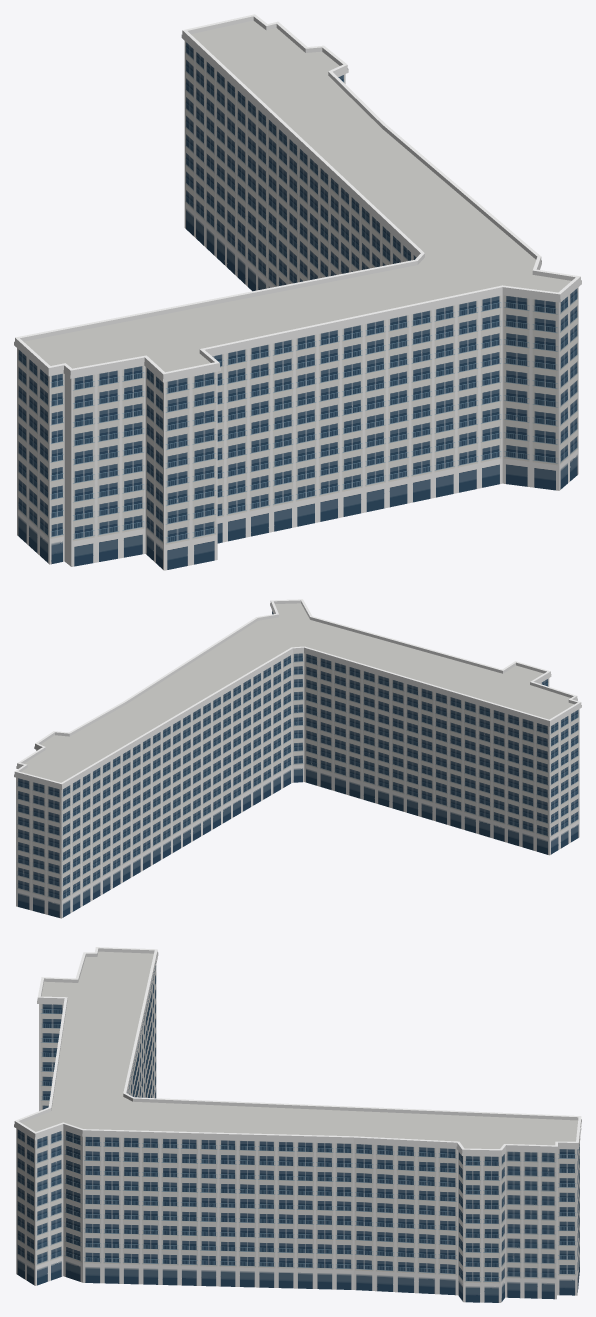
Rendered from spyglass.glb.
The picture shows the model from 3 angles, top to bottom: view 1: azimuth 30°, elevation 25°; view 2: azimuth 150°, elevation 25°; view 3: azimuth 270°, elevation 25°; orthographic projection. The views are drawn at different scales.
Visible parts, largest first — view 1: spyglass_lod0; view 2: spyglass_lod0; view 3: spyglass_lod0.
Part boxes in pixels (x1,y1,x2,y2): spyglass_lod0: [14, 14, 581, 570]; spyglass_lod0: [14, 599, 581, 918]; spyglass_lod0: [14, 947, 581, 1302].
Size of what is drawn, in the model's own units: 93.34 by 32.7 by 110.
Materials: 4 (2 with a texture image).
